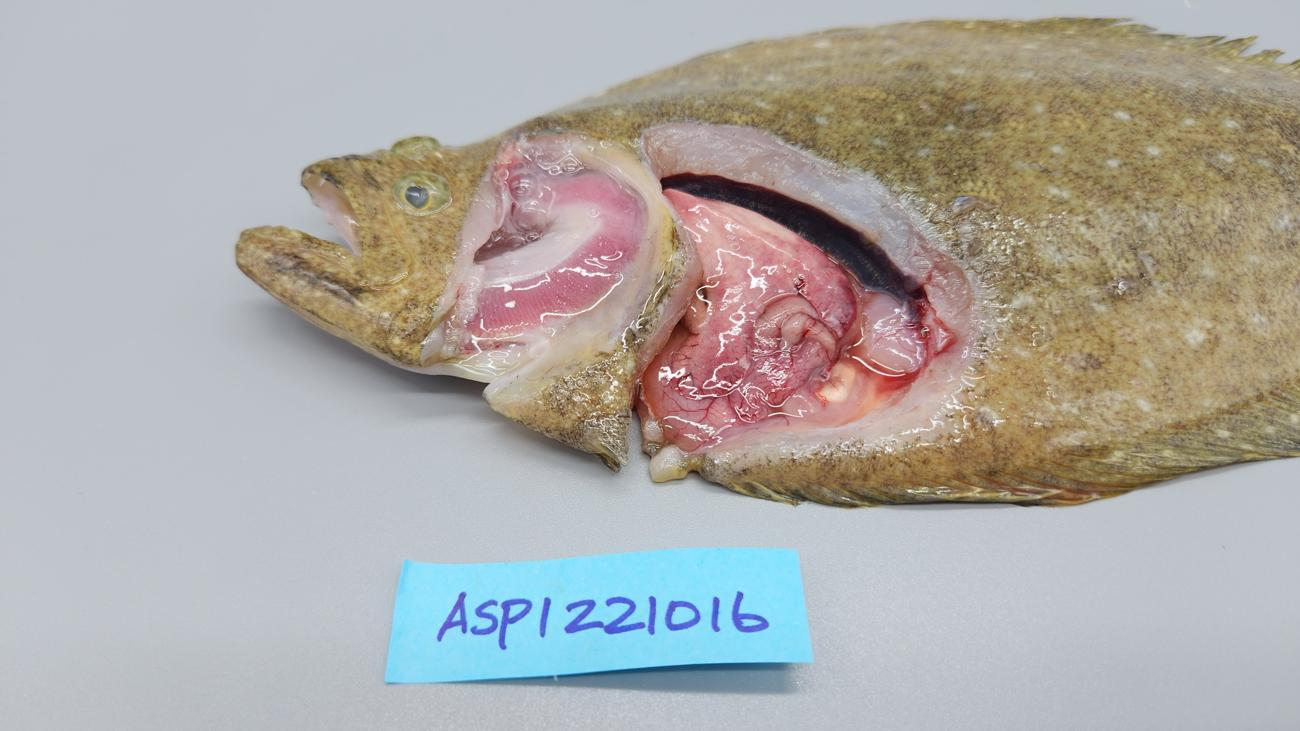SPGIP: (469, 169, 646, 339)
